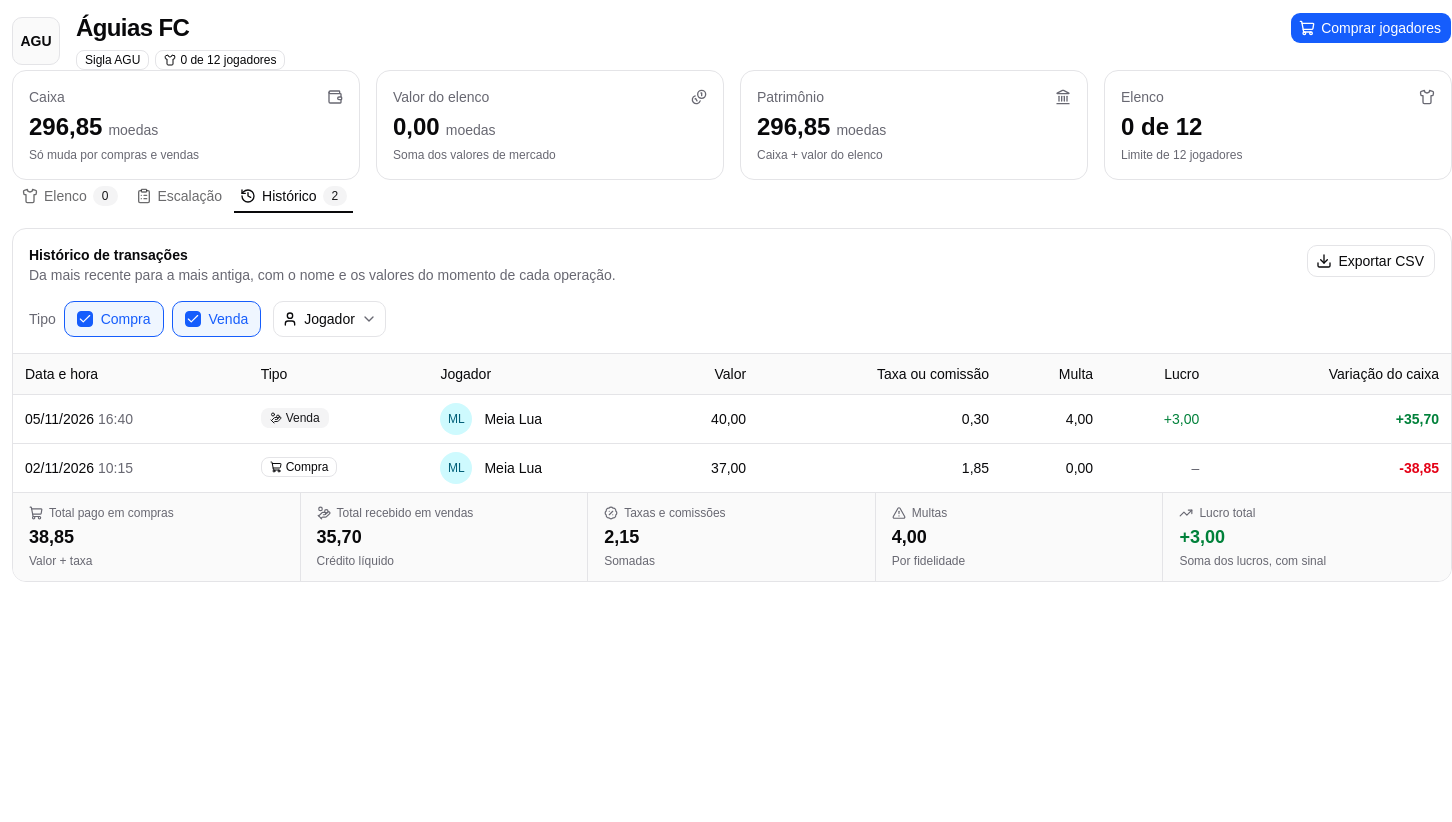
histórico de transações › filtra por tipo e mostra os totais devolvidos para o filtro
The width and height of the screenshot is (1452, 822).
Expected: the text "02/11/2026" is shown, [25, 460, 94, 476]
What coordinates should you click on to do the following:
click the 1st checkbox
I would click on:
 (85, 319)
Its box is [77, 311, 93, 327].
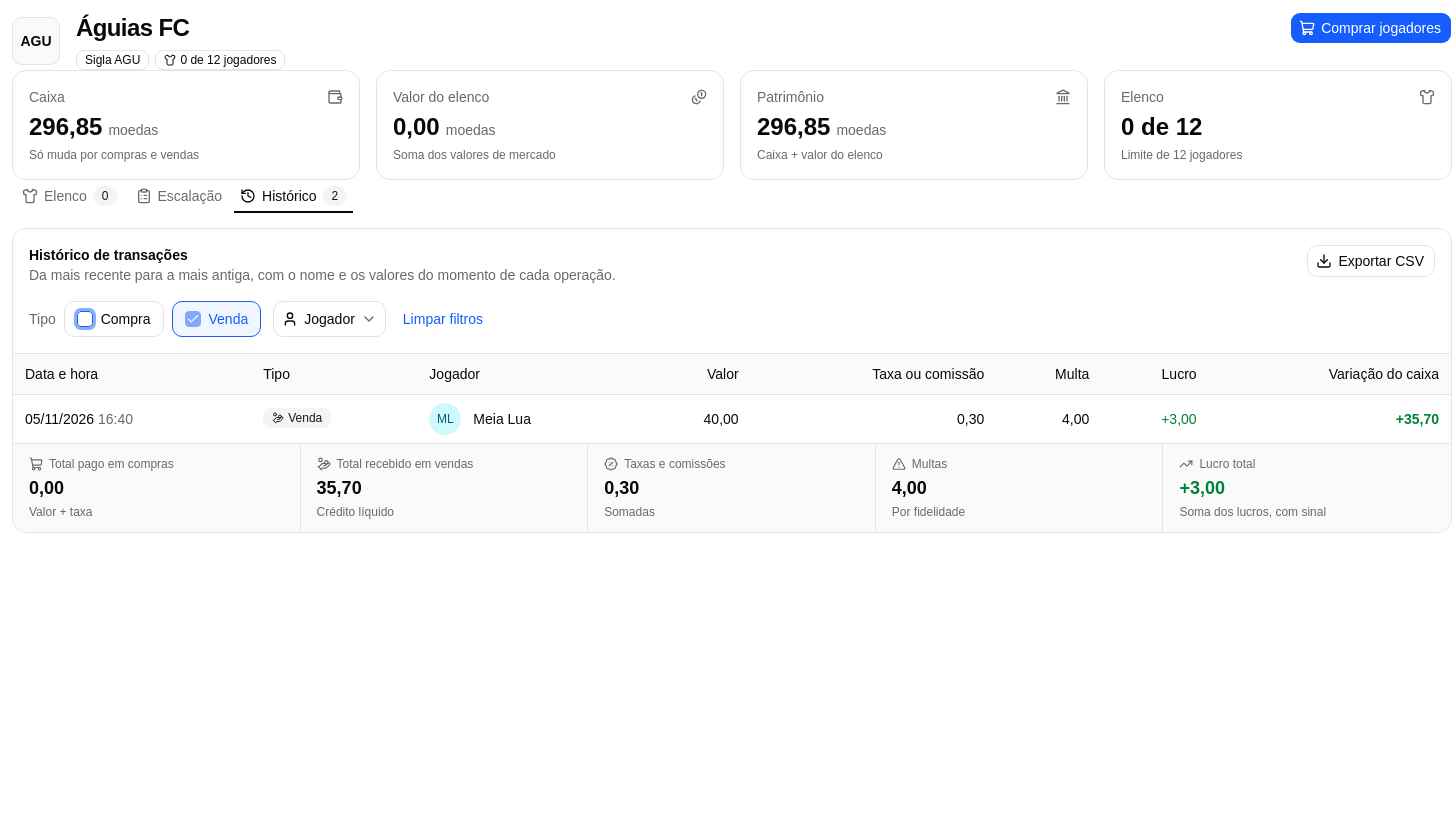
Expected: the text "02/11/2026" is gone
Expected: the text "0,00" is shown, [29, 478, 64, 498]
Expected: the 2nd checkbox named "Venda" is disabled, [184, 311, 200, 327]
